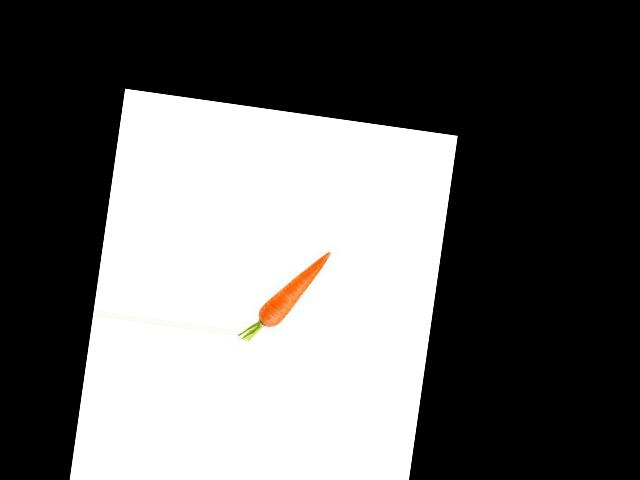carrot: (256, 242, 332, 336)
